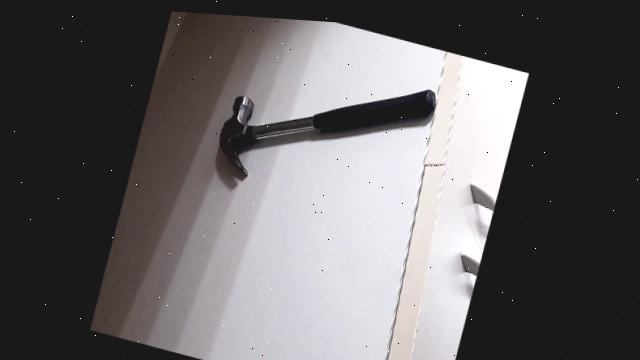hammer: (202, 29, 443, 225)
